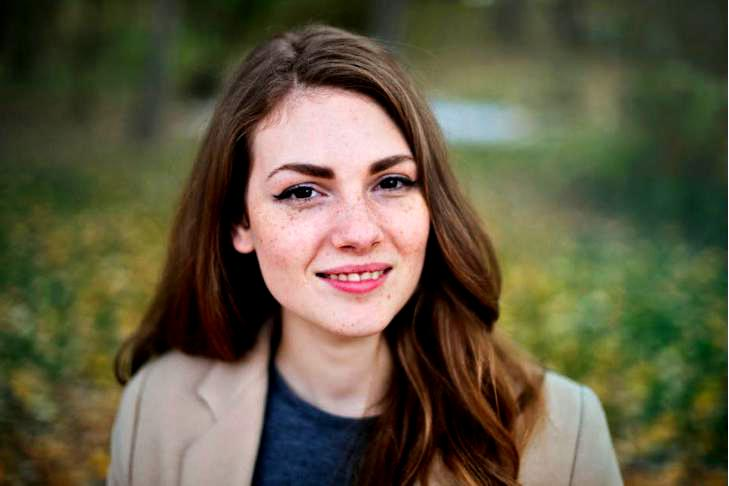face: (249, 92, 426, 337)
